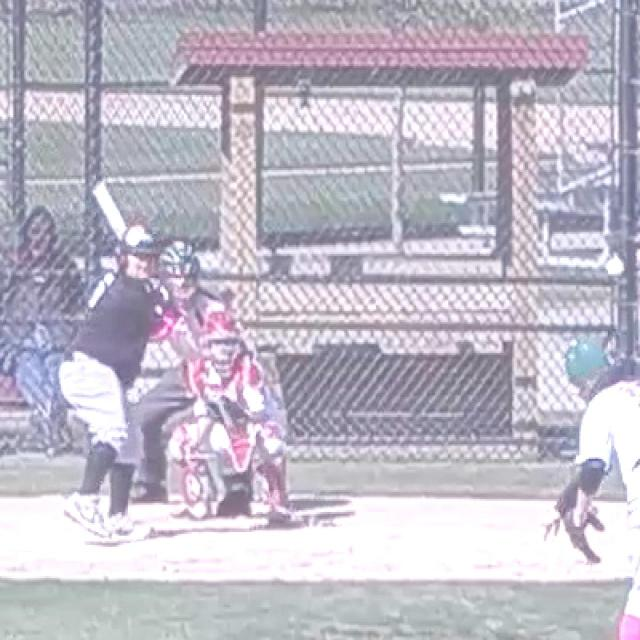baseball: (608, 260, 623, 275)
